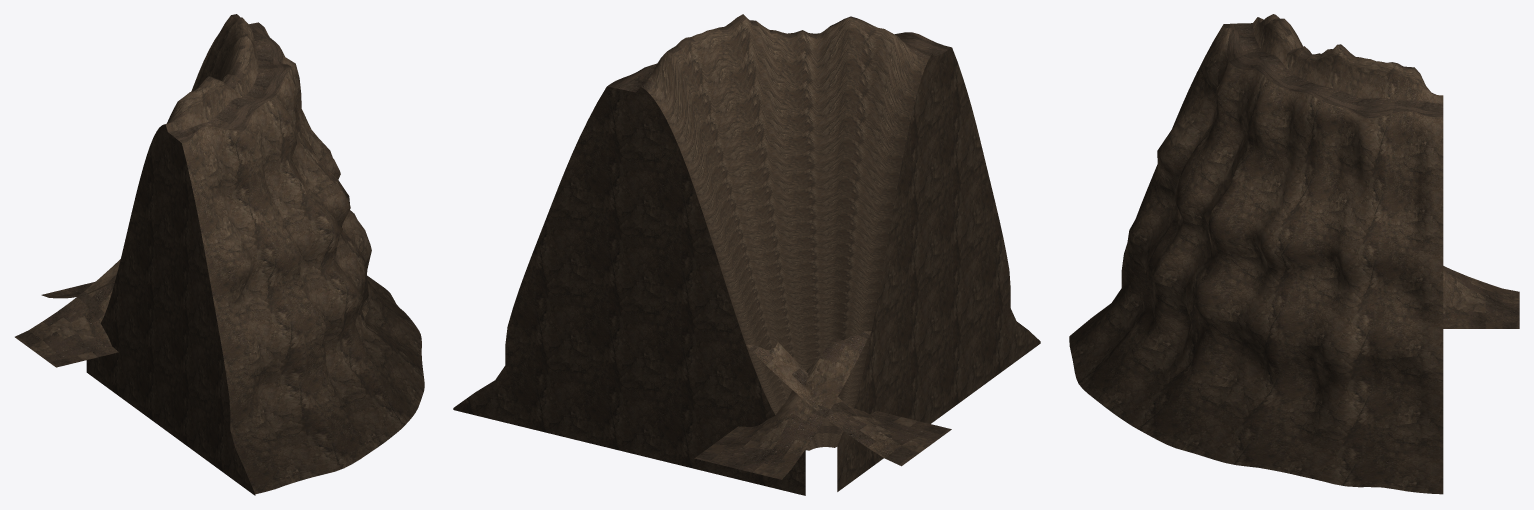
The model's file is seacliff_outer_h8_v5_dead.glb.
3 renders of one model, left to right at view 1: azimuth 30°, elevation 25°; view 2: azimuth 150°, elevation 25°; view 3: azimuth 270°, elevation 25°, orthographic. The views are drawn at different scales.
Parts seen in each view (by area): view 1: seacliff_outer_h8; view 2: seacliff_outer_h8; view 3: seacliff_outer_h8.
Part boxes in pixels (<box>): seacliff_outer_h8: <box>15,14,424,495</box>; seacliff_outer_h8: <box>453,14,1040,495</box>; seacliff_outer_h8: <box>1069,14,1519,494</box>.
Bounding box in the file's own units: 12.29 × 10.69 × 12.29.
2 materials, 2 textured.
